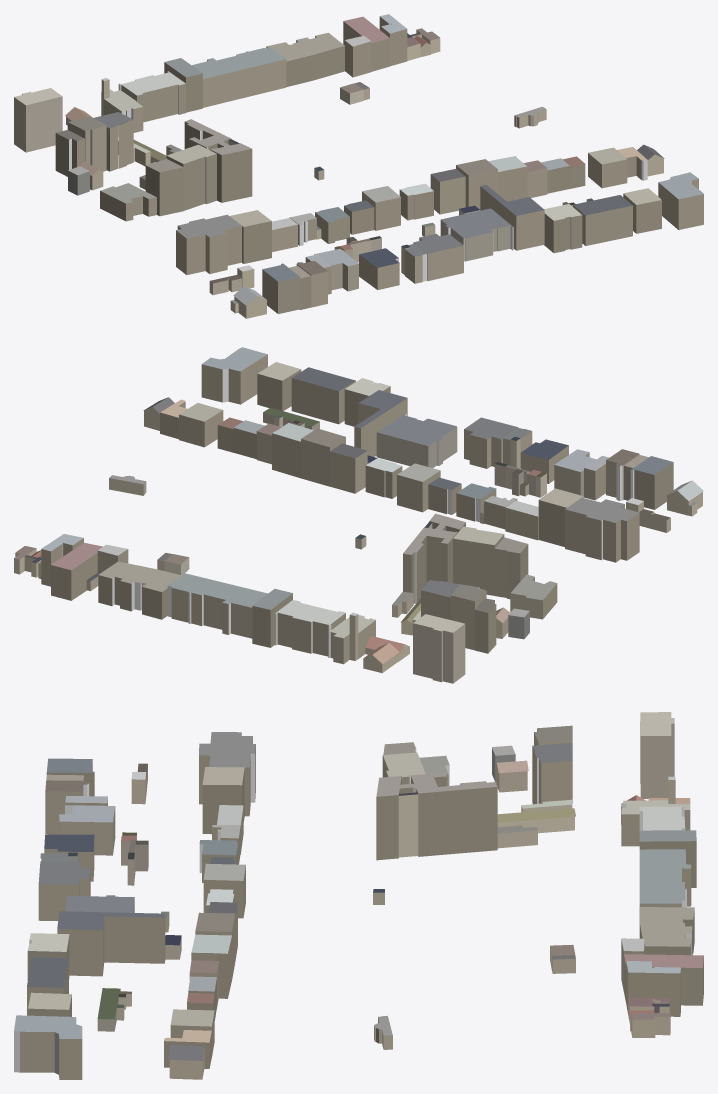
3 views of the same model, one above another, from view 1: azimuth 30°, elevation 25°; view 2: azimuth 150°, elevation 25°; view 3: azimuth 270°, elevation 25° (orthographic). The views are drawn at different scales.
Parts seen in each view (by area): view 1: tuile; view 2: tuile; view 3: tuile.
Part boxes in pixels (<box>): tuile: <box>14,14,703,318</box>; tuile: <box>14,347,703,683</box>; tuile: <box>14,712,703,1079</box>.
Size of the model in its own units: 257 by 28.68 by 246.
